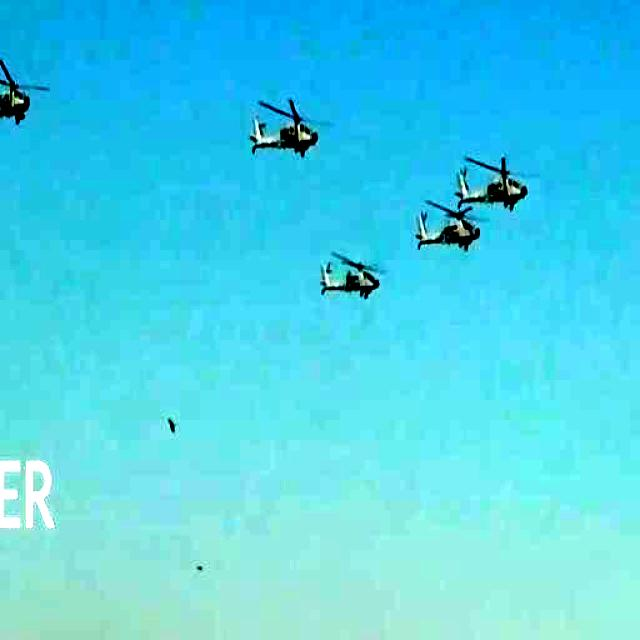drone: (250, 90, 325, 164), (410, 176, 482, 252), (449, 148, 538, 205), (0, 42, 45, 135), (316, 241, 385, 299)
